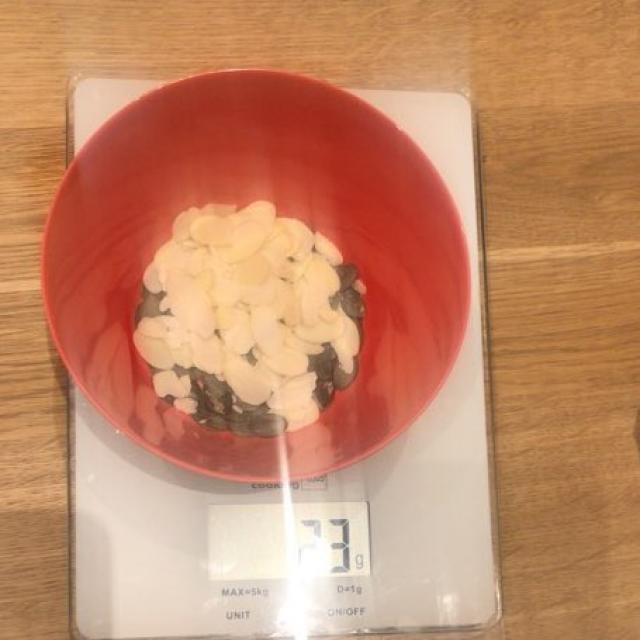almonds: (137, 206, 358, 431)
pumpkin-seeds: (139, 262, 366, 443)
